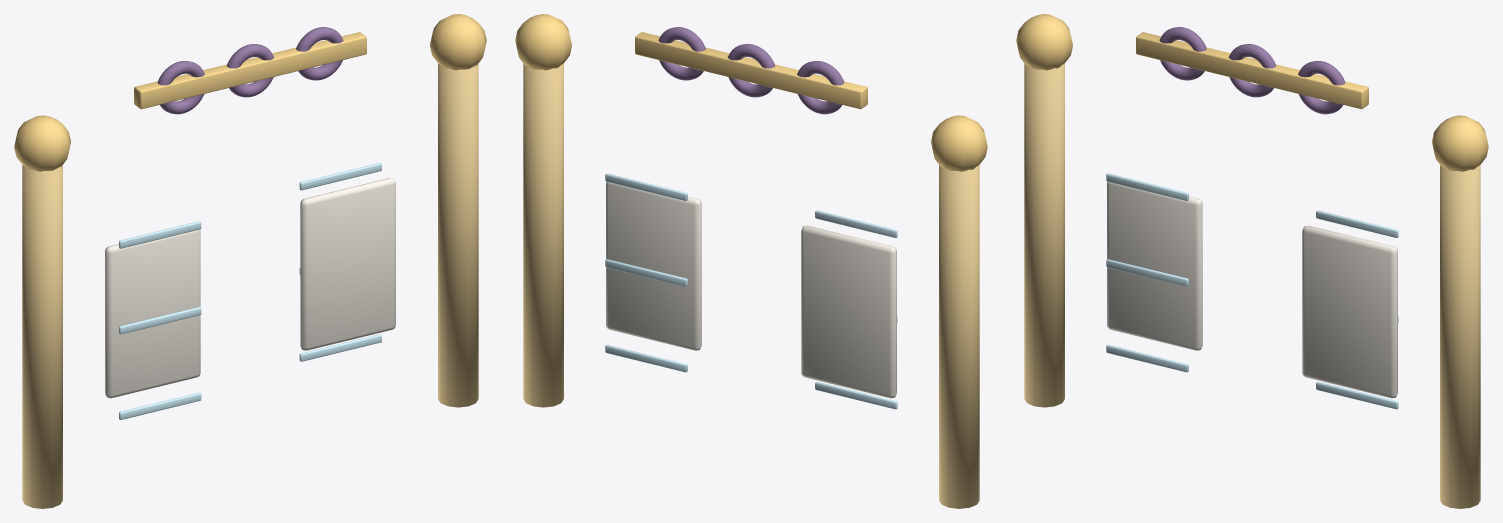
File: opera_shell_gate.glb
The picture shows the model from 3 angles, left to right: view 1: azimuth 30°, elevation 25°; view 2: azimuth 150°, elevation 25°; view 3: azimuth 330°, elevation 25°; orthographic projection.
Visible parts, largest first — view 1: leaf_r, post.001, post, leaf_l, lintel, post_pearl.001, post_pearl, socket2, socket1, socket0, leaf_l_ridge.002, leaf_r_ridge (+3 smaller); view 2: leaf_l, post.001, post, leaf_r, lintel, post_pearl.001, post_pearl, socket2, socket1, socket0, leaf_r_ridge, leaf_l_ridge.002 (+3 smaller); view 3: leaf_r, post, post.001, leaf_l, lintel, post_pearl, post_pearl.001, socket0, socket1, socket2, leaf_l_ridge, leaf_r_ridge.002 (+3 smaller).
Part boxes in pixels (bbox=[...]): leaf_r: bbox=[300, 178, 395, 350]; post.001: bbox=[438, 63, 478, 407]; post: bbox=[22, 165, 62, 508]; leaf_l: bbox=[105, 229, 200, 398]; lintel: bbox=[134, 32, 366, 109]; post_pearl.001: bbox=[430, 14, 486, 70]; post_pearl: bbox=[14, 115, 70, 171]; socket2: bbox=[296, 27, 343, 80]; socket1: bbox=[226, 44, 274, 97]; socket0: bbox=[157, 60, 204, 114]; leaf_l_ridge.002: bbox=[119, 221, 201, 248]; leaf_r_ridge: bbox=[299, 334, 381, 361]; leaf_l: bbox=[801, 225, 896, 398]; post.001: bbox=[523, 63, 563, 407]; post: bbox=[939, 165, 979, 508]; leaf_r: bbox=[606, 182, 701, 350]; lintel: bbox=[635, 32, 867, 109]; post_pearl.001: bbox=[515, 14, 571, 70]; post_pearl: bbox=[931, 115, 987, 171]; socket2: bbox=[658, 27, 705, 80]; socket1: bbox=[727, 44, 775, 97]; socket0: bbox=[797, 60, 844, 114]; leaf_r_ridge: bbox=[605, 345, 687, 372]; leaf_l_ridge.002: bbox=[815, 210, 897, 237]; leaf_r: bbox=[1302, 225, 1397, 398]; post: bbox=[1024, 63, 1064, 407]; post.001: bbox=[1440, 165, 1480, 508]; leaf_l: bbox=[1107, 182, 1202, 350]; lintel: bbox=[1136, 32, 1368, 109]; post_pearl: bbox=[1016, 14, 1072, 70]; post_pearl.001: bbox=[1432, 115, 1488, 171]; socket0: bbox=[1159, 27, 1206, 80]; socket1: bbox=[1228, 44, 1276, 97]; socket2: bbox=[1298, 60, 1345, 114]; leaf_l_ridge: bbox=[1106, 345, 1188, 372]; leaf_r_ridge.002: bbox=[1316, 210, 1398, 237].
Bounding box in the file's own units: 7.36 × 6.14 × 0.8.
